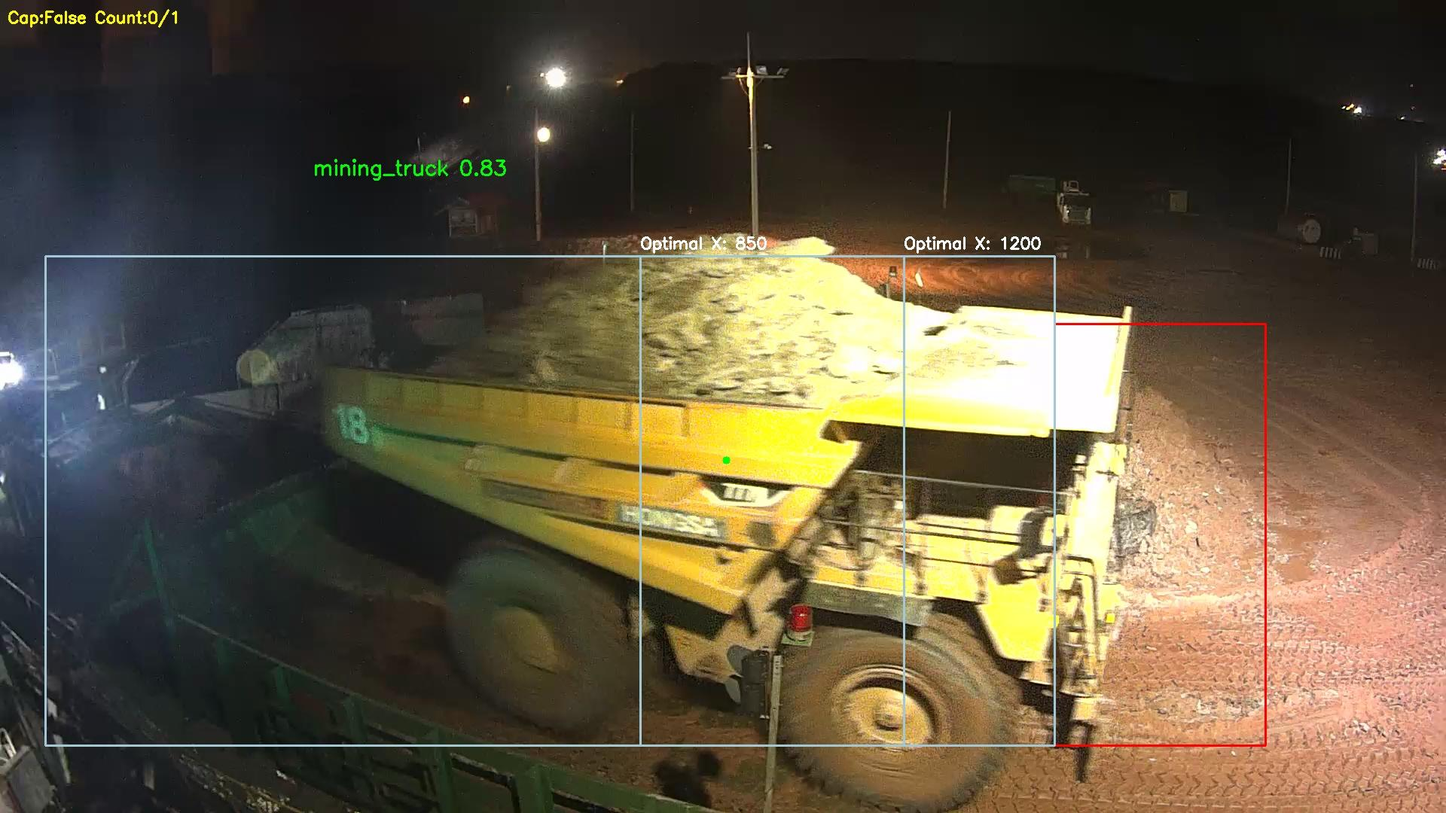company: (465, 481, 732, 553)
full_load: (535, 239, 947, 442)
mining_truck: (315, 224, 1145, 799)
tail_number: (322, 387, 388, 455)
truck_size: (693, 471, 797, 513)
